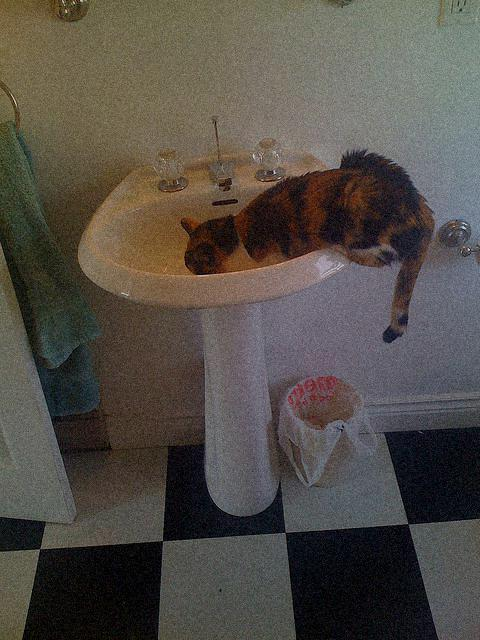Bote de Basura: (264, 380, 381, 500)
Lavamanos: (70, 129, 395, 516)
Otro Obstaculo: (178, 141, 451, 359)
